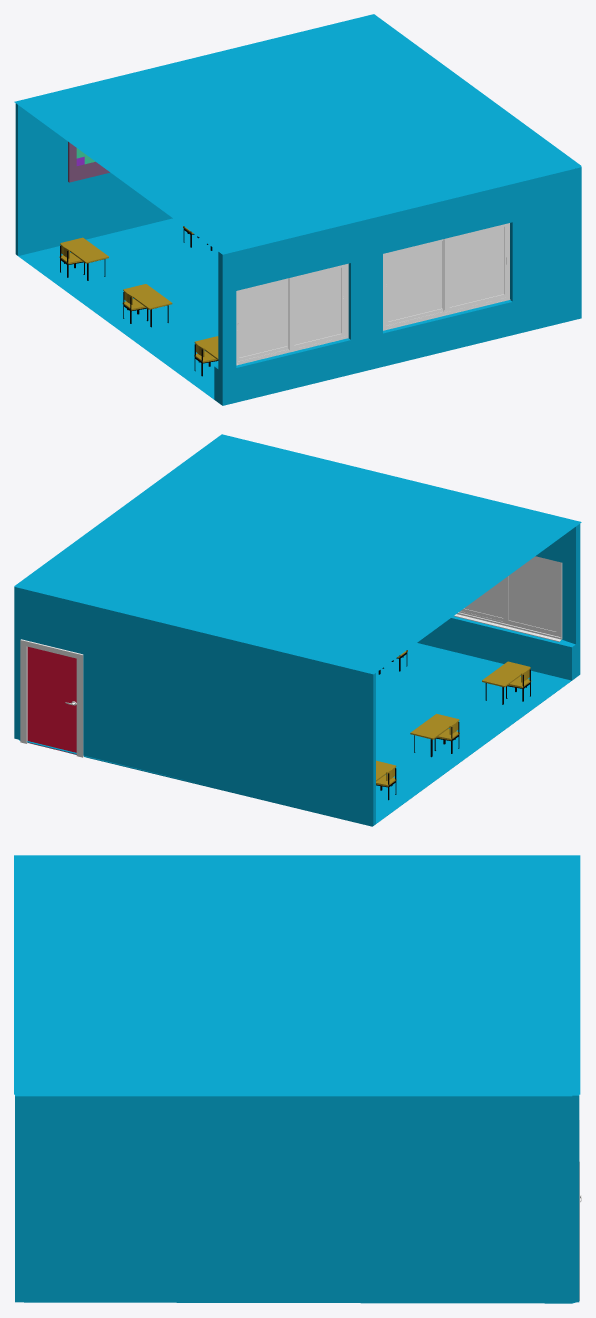
File: CLASSROOM.glb
3 views of the same model, one above another, from view 1: azimuth 30°, elevation 25°; view 2: azimuth 150°, elevation 25°; view 3: azimuth 270°, elevation 25° (orthographic). The views are drawn at different scales.
Parts seen in each view (by area): view 1: Plane.002, Plane.001, Window.R.001, Window.L.001, Window.R, Window.L, Cube.001, WindowFrame.001, Cube.006, WindowFrame; view 2: Plane.002, Plane.001, Door, Window.L, Cube.001, DoorFrame, Window.R, WindowFrame; view 3: Plane.002, Plane.001.
Part boxes in pixels (box(x1,y1,x2,y2)): Plane.002: box(14, 14, 581, 253); Plane.001: box(15, 103, 581, 405); Window.R.001: box(443, 223, 507, 312); Window.L.001: box(386, 239, 443, 325); Window.R: box(288, 264, 344, 349); Window.L: box(237, 278, 288, 361); Cube.001: box(59, 226, 218, 376); WindowFrame.001: box(383, 223, 510, 330); Cube.006: box(68, 141, 109, 182); WindowFrame: box(236, 263, 348, 365); Plane.002: box(14, 434, 581, 673); Plane.001: box(14, 523, 580, 826); Door: box(27, 647, 76, 754); Window.L: box(503, 557, 559, 636); Cube.001: box(376, 650, 531, 800); DoorFrame: box(20, 639, 83, 757); Window.R: box(461, 580, 503, 621); WindowFrame: box(457, 556, 562, 639); Plane.002: box(14, 855, 580, 1094); Plane.001: box(15, 1094, 579, 1303).
Size of the model in its own units: 40.2 by 16.62 by 40.31.
